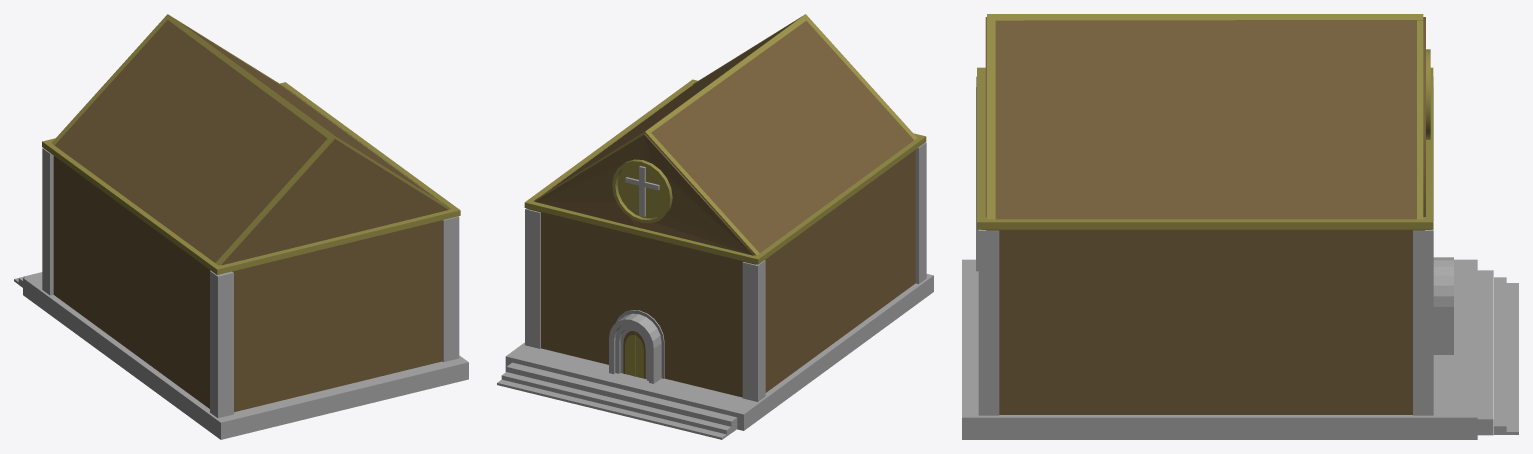
The model's file is nunnery_1.fbx.
The picture shows the model from 3 angles, left to right: view 1: azimuth 30°, elevation 25°; view 2: azimuth 150°, elevation 25°; view 3: azimuth 270°, elevation 25°; orthographic projection. The views are drawn at different scales.
Visible parts, largest first — view 1: pCube47, pCube45, pCube43, pCube50, pCube36, polySurface991, pCube41, pCube53, pCube46, pCube51; view 2: pCube47, pCube44, pCube43, pCube36, polySurface991, polySurface998, pCube51, pCube37, polySurface989, pCube52, pCube38, pCube46 (+7 smaller); view 3: pCube46, pCube42, pCube36, polySurface991, pCube53, pCube52, pCube37, pPipe1, pCube38, pCube40, polySurface998.
Part boxes in pixels (x1,y1,x2,y2): pCube47: (54,20,327,262); pCube45: (232,220,442,412); pCube43: (53,156,210,408); pCube50: (221,139,448,265); pCube36: (23,273,468,439); polySurface991: (42,14,460,274); pCube41: (210,270,233,418); pCube53: (442,216,459,362); pCube46: (181,23,438,200); pCube51: (42,148,53,295); pCube47: (651,20,913,252); pCube44: (527,208,755,397); pCube43: (765,150,915,392); pCube36: (505,274,933,430); polySurface991: (524,14,926,264); polySurface998: (535,134,754,255); pCube51: (742,260,765,401); pCube37: (506,362,737,432); polySurface989: (612,159,672,223); pCube52: (525,208,540,348); pCube38: (501,372,731,436); pCube46: (543,22,793,194); pCube46: (995,20,1421,219); pCube42: (986,229,1424,414); pCube36: (962,259,1477,439); polySurface991: (977,14,1433,229); pCube53: (978,229,999,415); pCube52: (1413,221,1433,415); pCube37: (1477,270,1493,435); pPipe1: (1433,257,1453,354); pCube38: (1494,277,1506,434); pCube40: (1506,283,1518,434); polySurface998: (1422,17,1425,216).
Size of the model in its own units: 185 by 190 by 276.
